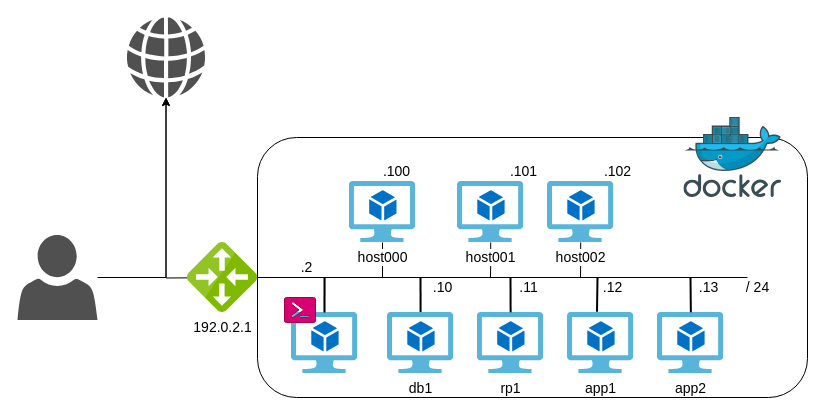
Some shapes in this 825 by 415 pixel diagram are drawn without their labels. Each missing label, with the box of its shape:
ansible: (291, 312, 357, 373)
インターネット: (126, 17, 205, 97)
